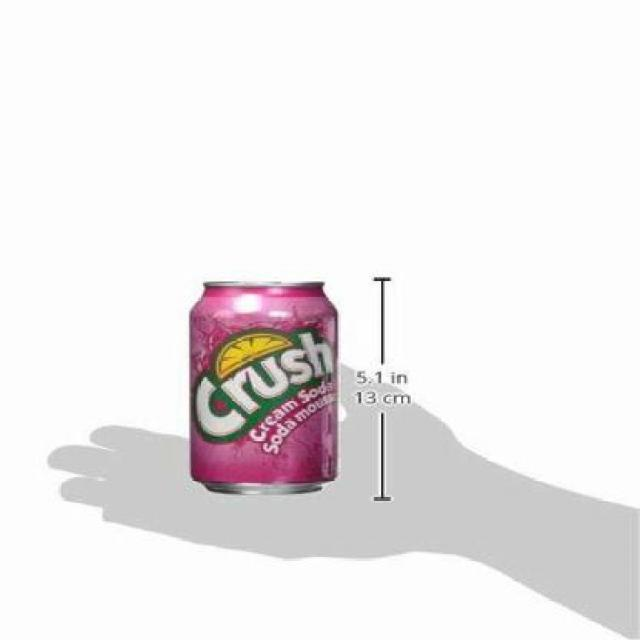non-organic waste: (177, 269, 349, 506)
